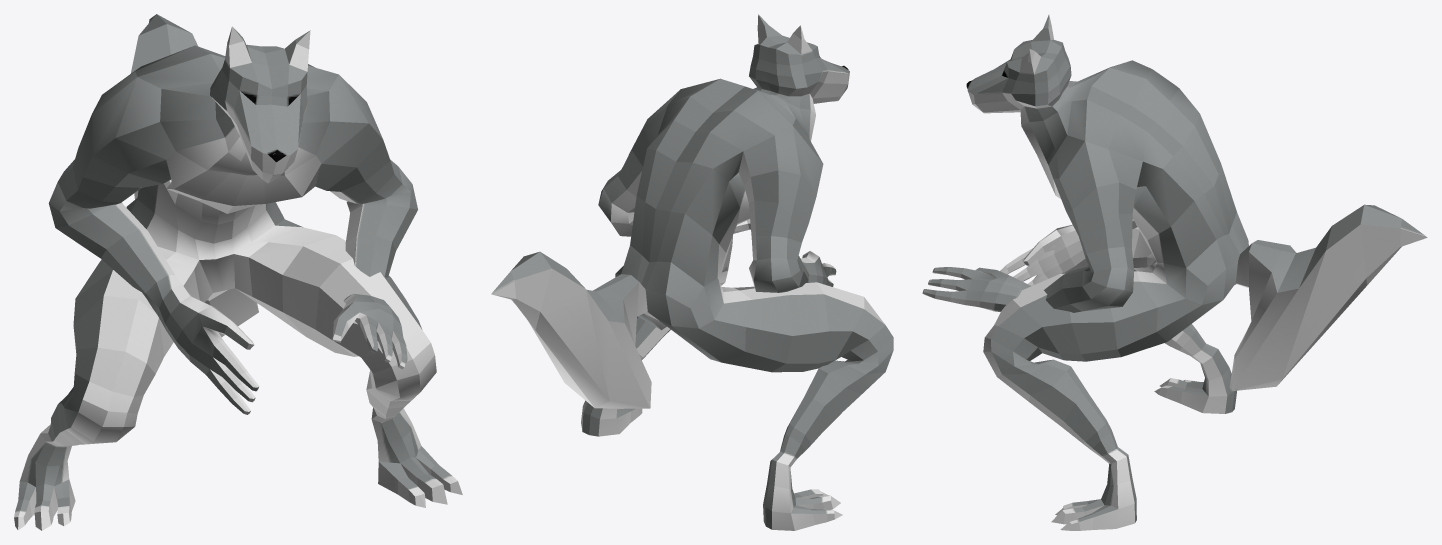
The model's file is WolfAttack(70).obj.
3 renders of one model, left to right at view 1: azimuth 30°, elevation 25°; view 2: azimuth 150°, elevation 25°; view 3: azimuth 270°, elevation 25°, orthographic. The views are drawn at different scales.
Parts seen in each view (by area): view 1: Box001; view 2: Box001; view 3: Box001.
Part boxes in pixels (left/top/right/bottom): Box001: left=14, top=14, right=462, bottom=530; Box001: left=491, top=14, right=893, bottom=530; Box001: left=922, top=14, right=1427, bottom=530.
Size of the model in its own units: 79.33 by 108 by 116.
